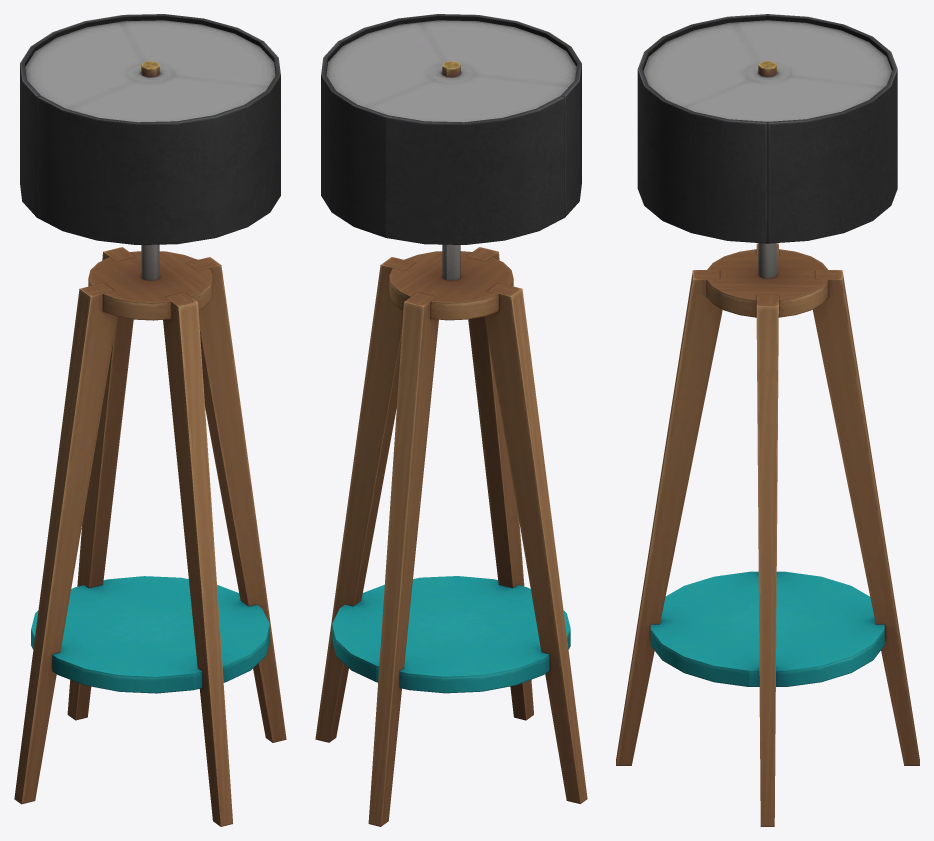
The model's file is LampWithoutStorage.fbx.
The picture shows the model from 3 angles, left to right: view 1: azimuth 30°, elevation 25°; view 2: azimuth 150°, elevation 25°; view 3: azimuth 270°, elevation 25°; orthographic projection.
Parts seen in each view (by area): view 1: TinyLiving_LampWithoutStorage; view 2: TinyLiving_LampWithoutStorage; view 3: TinyLiving_LampWithoutStorage.
Part boxes in pixels (left/top/right/bottom): TinyLiving_LampWithoutStorage: left=14, top=14, right=286, bottom=826; TinyLiving_LampWithoutStorage: left=315, top=14, right=587, bottom=826; TinyLiving_LampWithoutStorage: left=616, top=14, right=919, bottom=826.
Size of the model in its own units: 72.99 by 185 by 73.12.
